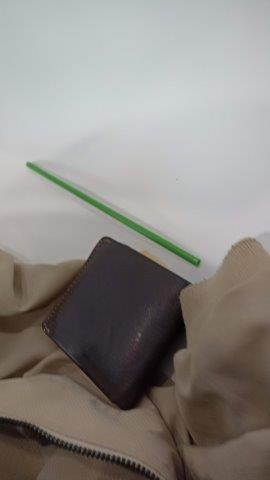sedotan: (26, 162, 200, 265)
